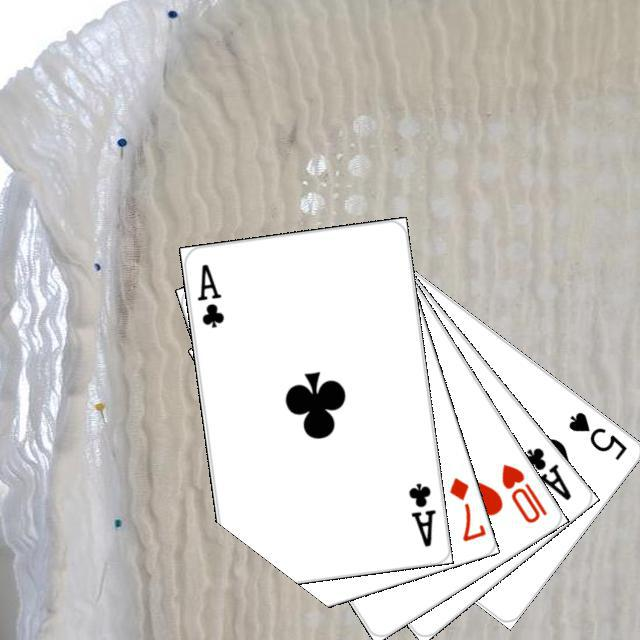10h: (496, 459, 549, 525)
5s: (563, 407, 629, 462)
7d: (444, 472, 486, 544)
Ac: (518, 442, 573, 503), (403, 478, 438, 549), (192, 259, 226, 329)
